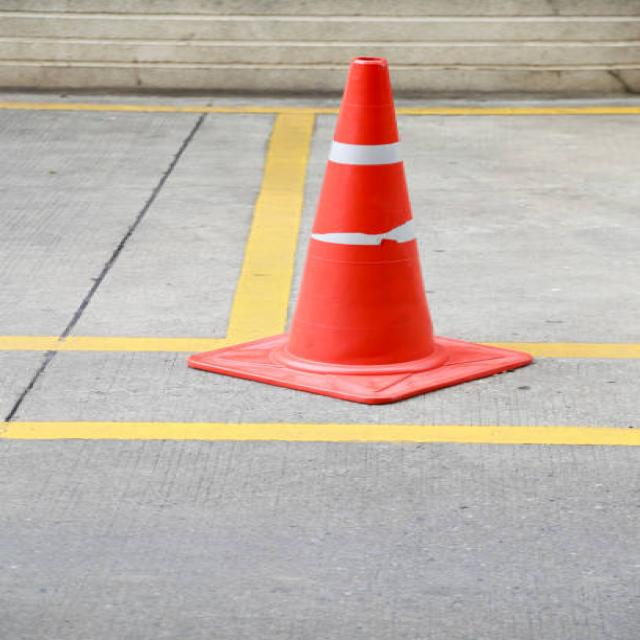Traffic Cone: (175, 46, 549, 417)
